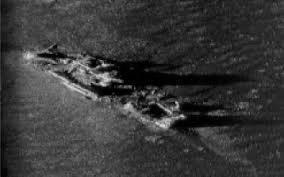ship: (23, 43, 186, 132)
